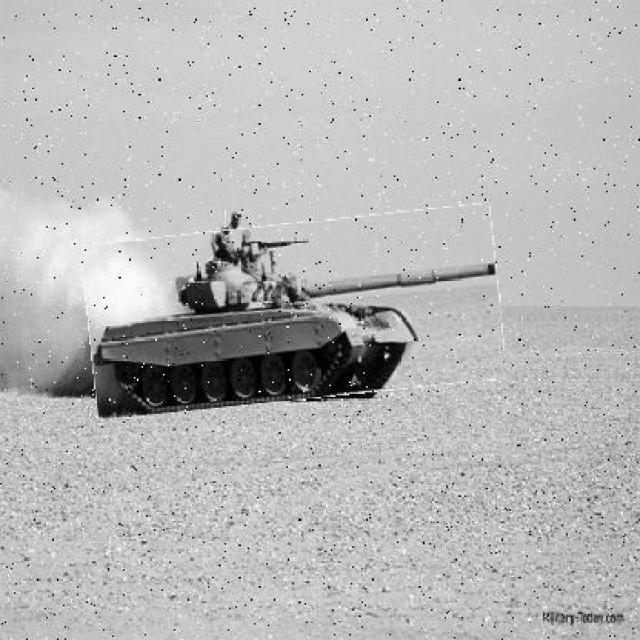Person: (226, 210, 252, 263)
Tank: (84, 215, 504, 412)
